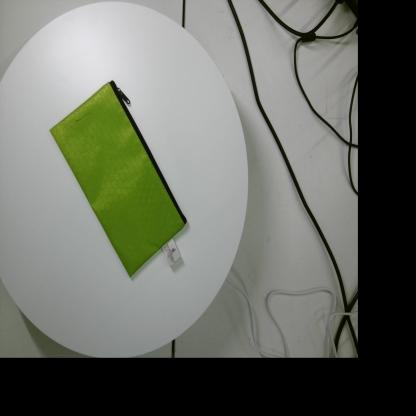Stationery: (49, 80, 187, 278)
